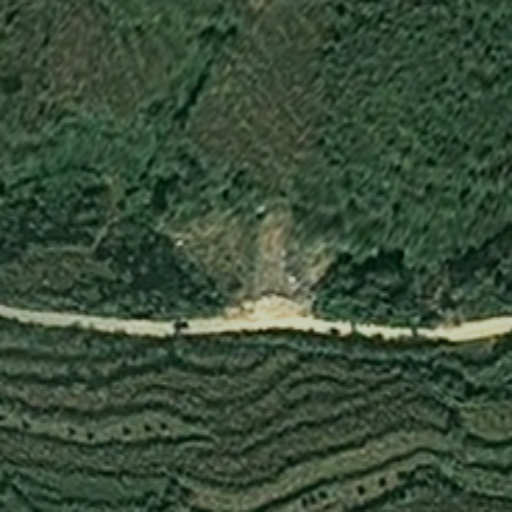landslide: (221, 209, 324, 317)
